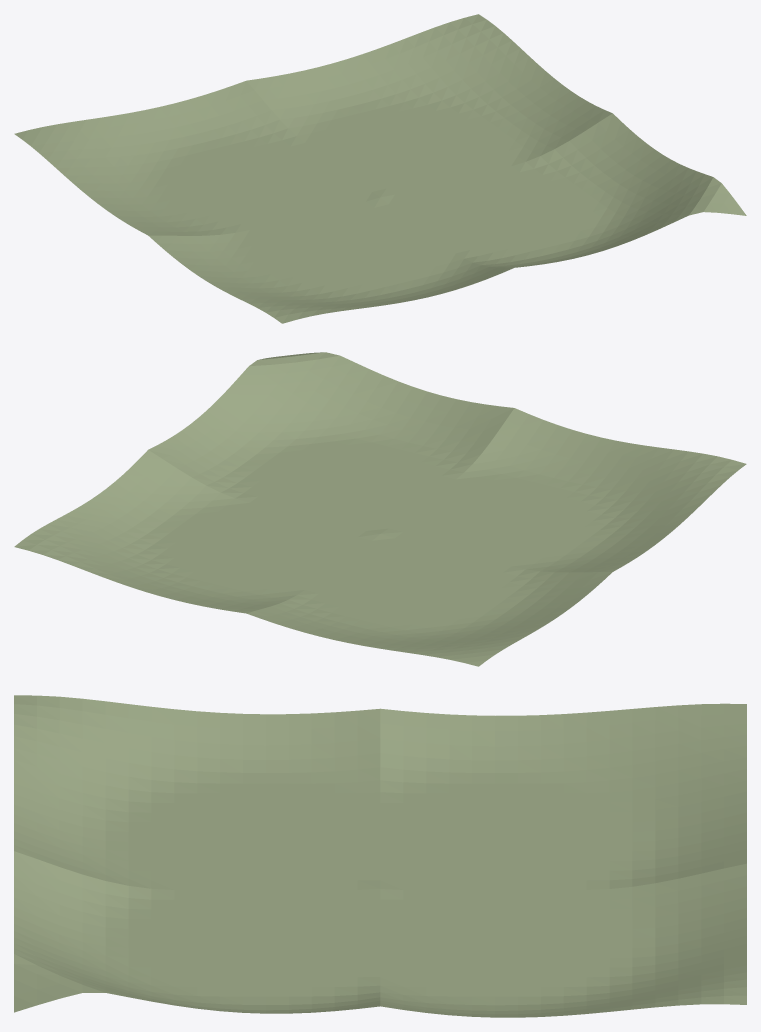
File: gardens-0-0.glb
The picture shows the model from 3 angles, top to bottom: view 1: azimuth 30°, elevation 25°; view 2: azimuth 150°, elevation 25°; view 3: azimuth 270°, elevation 25°; orthographic projection. The views are drawn at different scales.
Parts seen in each view (by area): view 1: gardens-0-0; view 2: gardens-0-0; view 3: gardens-0-0.
Boxes of the visible parts, left/top/right/bottom form: gardens-0-0: left=14, top=14, right=746, bottom=323; gardens-0-0: left=14, top=352, right=746, bottom=666; gardens-0-0: left=14, top=695, right=746, bottom=1017.
Size of the model in its own units: 256 by 20.16 by 256.
